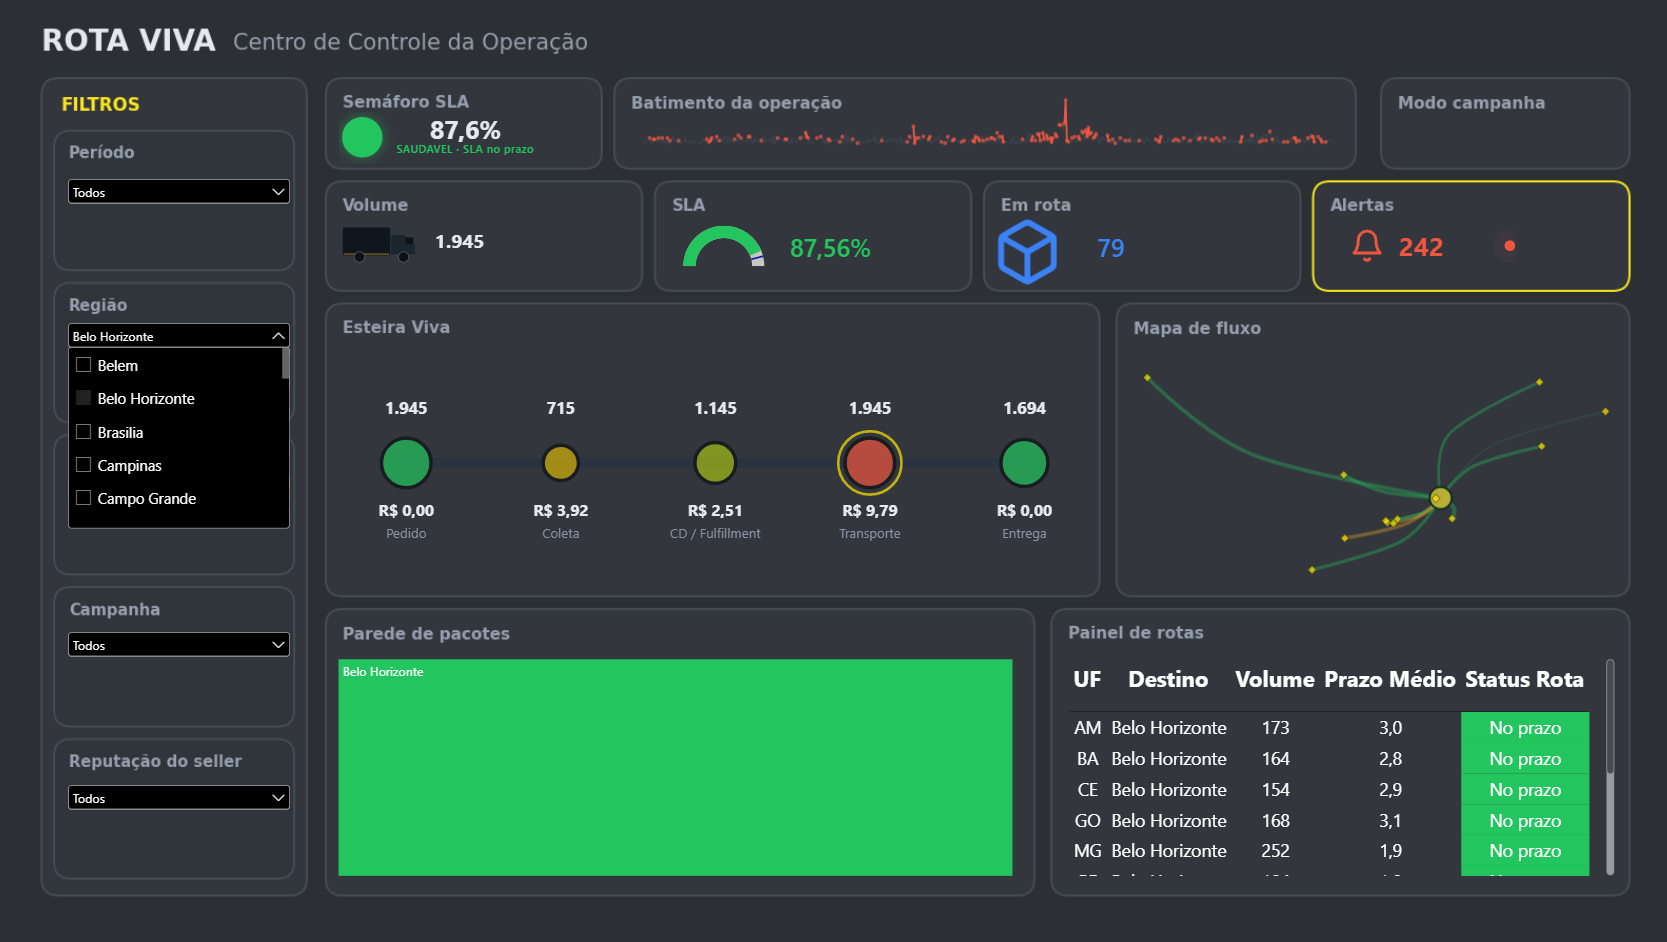

This screenshot's page, from the dashboard's own definition file:
{"tool":"powerbi","page":{"name":"Página 1","canvas":[1920,1080],"ordinal":0},"visuals":[{"type":"htmlContent443BE3AD55E043BF878BED274D3A6855","fields":{"content":["medida.Farol SLA HTML"]},"box":[378.3,114.5,335.6,89.2],"z":0},{"type":"deneb7E15AEF80B9E4D4F8E12924291ECE89A","fields":{"dataset":["dim_calendario.data","medida.Total Envios","medida.Abaixo Meta"]},"box":[713.7,92.8,839.4,96.7],"z":1000},{"type":"cardVisual","fields":{"Data":["medida.Campanha Ativa"]},"box":[1583.7,114.2,279.8,76.1],"z":2000},{"type":"slicer","fields":{"Values":["fato_envios.campanha"]},"box":[79.9,715.7,262.7,43.8],"z":3000},{"type":"htmlContent443BE3AD55E043BF878BED274D3A6855","fields":{"content":["medida.Caminhao HTML"]},"box":[378.8,234.1,359.8,95.2],"z":4000},{"type":"slicer","fields":{"Values":["dim_modalidade.modalidade"]},"box":[79.9,540.6,262.7,43.8],"z":5000},{"type":"gauge","fields":{"MaxValue":["medida.Máximo"],"TargetValue":["medida.Destino/Target"],"Y":["medida.SLA No Prazo %"]},"box":[753.8,243.7,158,76.1],"z":6000},{"type":"cardVisual","fields":{"Data":["medida.SLA No Prazo %"]},"box":[892.8,243.7,133.2,76.1],"z":7000},{"type":"htmlContent443BE3AD55E043BF878BED274D3A6855","fields":{"content":["medida.Icone_DAX"]},"box":[1111.7,234.1,131.3,129.4],"z":8000},{"type":"cardVisual","fields":{"Data":["medida.Em Rota"]},"box":[1243,243.7,133.2,76.1],"z":9000},{"type":"htmlContent443BE3AD55E043BF878BED274D3A6855","fields":{"content":["medida.Alerta HTML"]},"box":[1528.5,243.7,220.8,85.7],"z":10000},{"type":"deneb7E15AEF80B9E4D4F8E12924291ECE89A","fields":{"dataset":["fato_envios.id_cd","dim_cd.latitude","dim_cd.longitude","fato_envios.cidade_destino","dim_cidade (1).long_dest","dim_cidade (1).lat_dest","medida.Total Envios","medida.SLA100"]},"box":[1284.9,403.5,578.7,276],"z":11000},{"type":"slicer","fields":{"Values":["dim_calendario.data.Variation.Hierarquia de datas.Ano","dim_calendario.data.Variation.Hierarquia de datas.Mês"]},"box":[79.9,199.9,262.7,43.8],"z":12000},{"type":"deneb7E15AEF80B9E4D4F8E12924291ECE89A","fields":{"dataset":["dim_etapa.Etapa","dim_etapa.Ordem","medida.Vol Etapa","medida.Custo Envio Etapa","medida.% Custo Etapa"]},"box":[379.3,384.5,886.8,295.6],"z":13000},{"type":"slicer","fields":{"Values":["fato_envios.cidade_destino"]},"box":[79.9,363.6,262.7,43.8],"z":15000},{"type":"tableEx","fields":{"Values":["dim_cd.uf","fato_envios.cidade_destino","medida.Volume Rotulo","medida.Prazo Medio (dias)","medida.Status Rota"]},"box":[1208.7,738.6,654.8,276],"z":16000},{"type":"slicer","fields":{"Values":["dim_seller.reputacao"]},"box":[79.9,890.8,262.7,43.8],"z":17000},{"type":"treemap","fields":{"Group":["fato_envios.regiao_destino","fato_envios.cidade_destino"],"Values":["medida.Impacto Atraso"]},"box":[377.6,738.2,799.7,276.8],"z":17001}]}

Visuals, with their boxes in screenshot pixels (x1, y1, x2, y2), scaled from the page's 1920x1080 canvas onto the 1667x942 screenshot:
htmlContent443BE3AD55E043BF878BED274D3A6855 - medida.Farol SLA HTML: [328,100,620,178]
deneb7E15AEF80B9E4D4F8E12924291ECE89A - dim_calendario.data x medida.Total Envios: [620,81,1348,165]
cardVisual - medida.Campanha Ativa: [1375,100,1618,166]
slicer - fato_envios.campanha: [69,624,297,662]
htmlContent443BE3AD55E043BF878BED274D3A6855 - medida.Caminhao HTML: [329,204,641,287]
slicer - dim_modalidade.modalidade: [69,472,297,510]
gauge - medida.Máximo x medida.Destino/Target: [654,213,792,279]
cardVisual - medida.SLA No Prazo %: [775,213,891,279]
htmlContent443BE3AD55E043BF878BED274D3A6855 - medida.Icone_DAX: [965,204,1079,317]
cardVisual - medida.Em Rota: [1079,213,1195,279]
htmlContent443BE3AD55E043BF878BED274D3A6855 - medida.Alerta HTML: [1327,213,1519,287]
deneb7E15AEF80B9E4D4F8E12924291ECE89A - fato_envios.id_cd x dim_cd.latitude: [1116,352,1618,593]
slicer - dim_calendario.data.Variation.Hierarquia de datas.Ano x dim_calendario.data.Variation.Hierarquia de datas.Mês: [69,174,297,213]
deneb7E15AEF80B9E4D4F8E12924291ECE89A - dim_etapa.Etapa x dim_etapa.Ordem: [329,335,1099,593]
slicer - fato_envios.cidade_destino: [69,317,297,355]
tableEx - dim_cd.uf x fato_envios.cidade_destino: [1049,644,1618,885]
slicer - dim_seller.reputacao: [69,777,297,815]
treemap - fato_envios.regiao_destino x fato_envios.cidade_destino: [328,644,1022,885]
